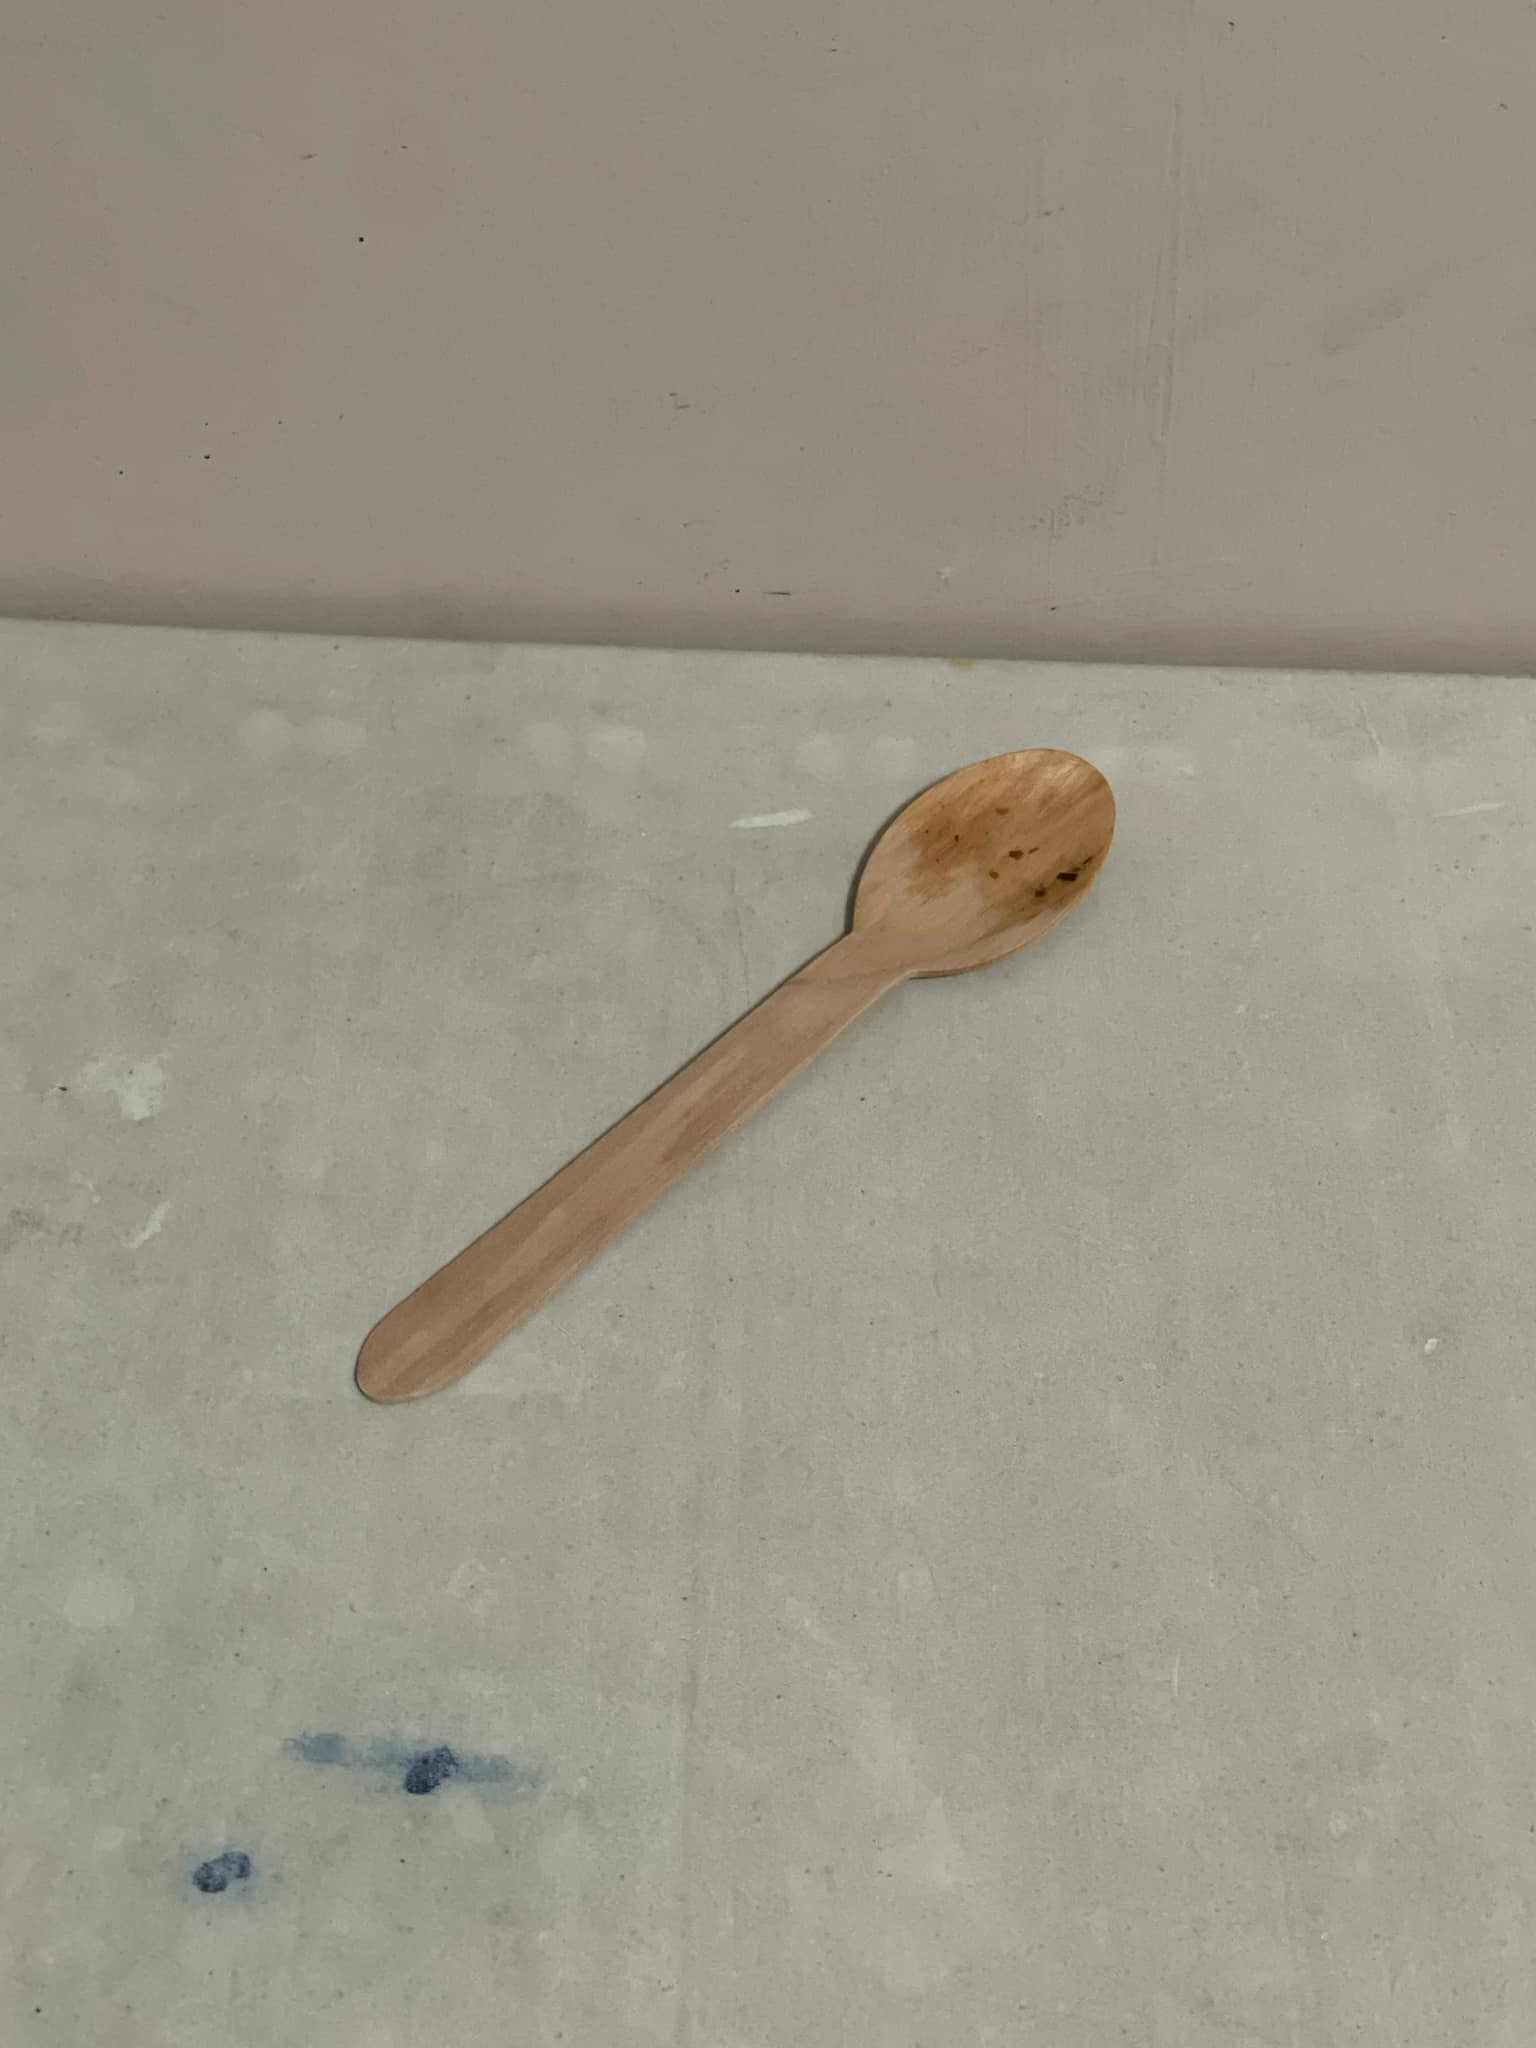Wooden Utensils: (271, 634, 1223, 1448)
